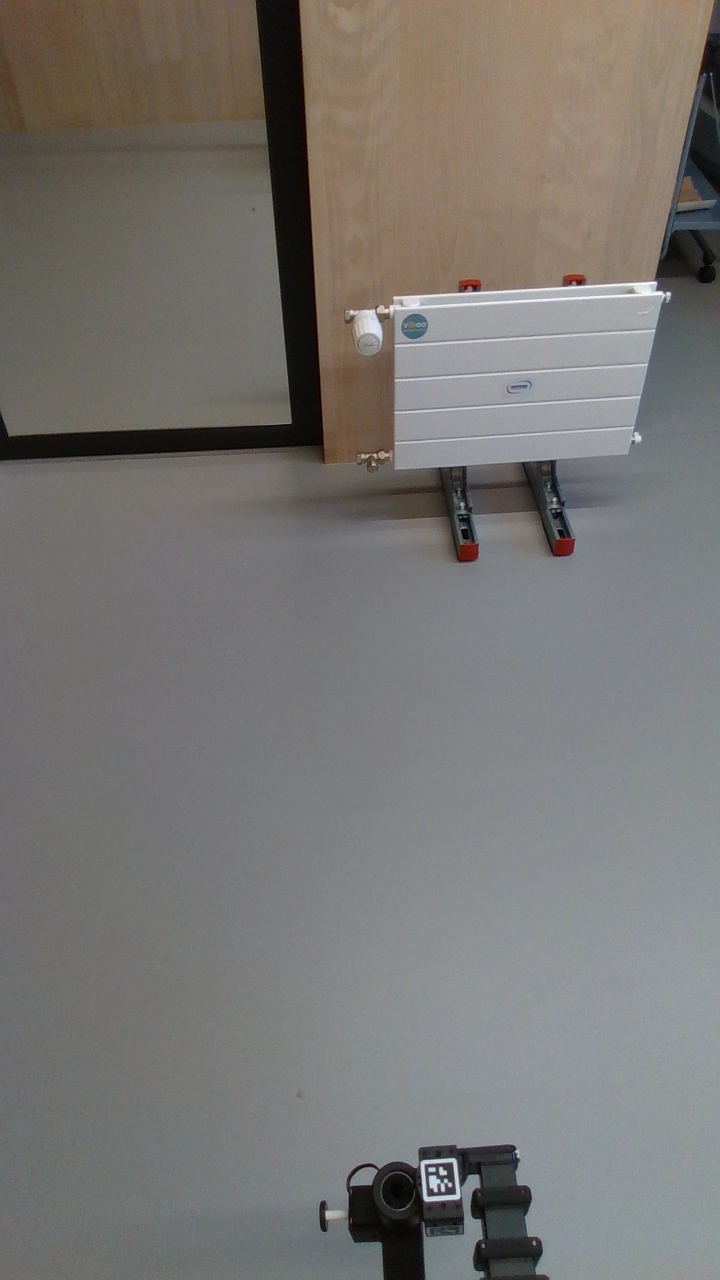Knob_Radiator: (344, 303, 386, 362)
Radiator: (387, 277, 671, 475)
